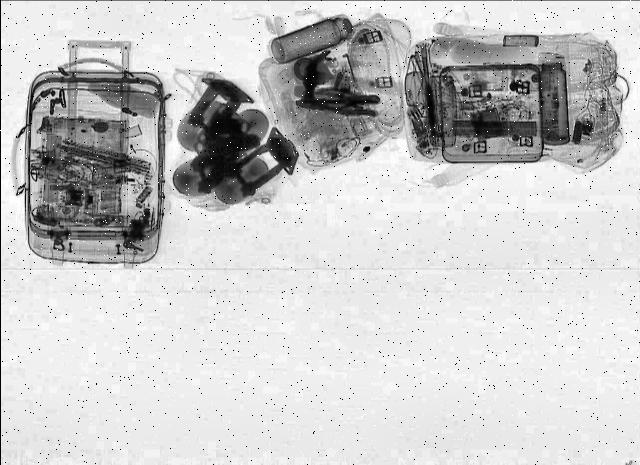Pliers: (294, 94, 376, 116)
